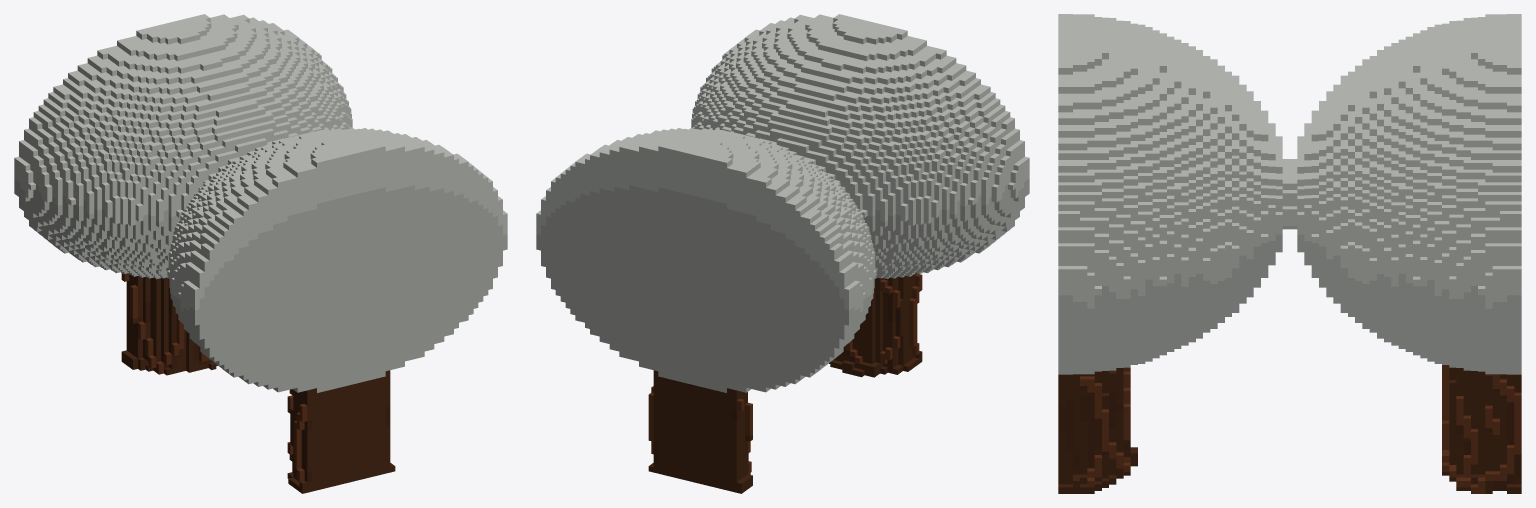
File: TreeTile-1.obj
The picture shows the model from 3 angles, left to right: view 1: azimuth 30°, elevation 25°; view 2: azimuth 150°, elevation 25°; view 3: azimuth 270°, elevation 25°; orthographic projection. The views are drawn at different scales.
Bounding box in the file's own units: 6.4 × 6.4 × 6.4.
1 material, 1 textured.
